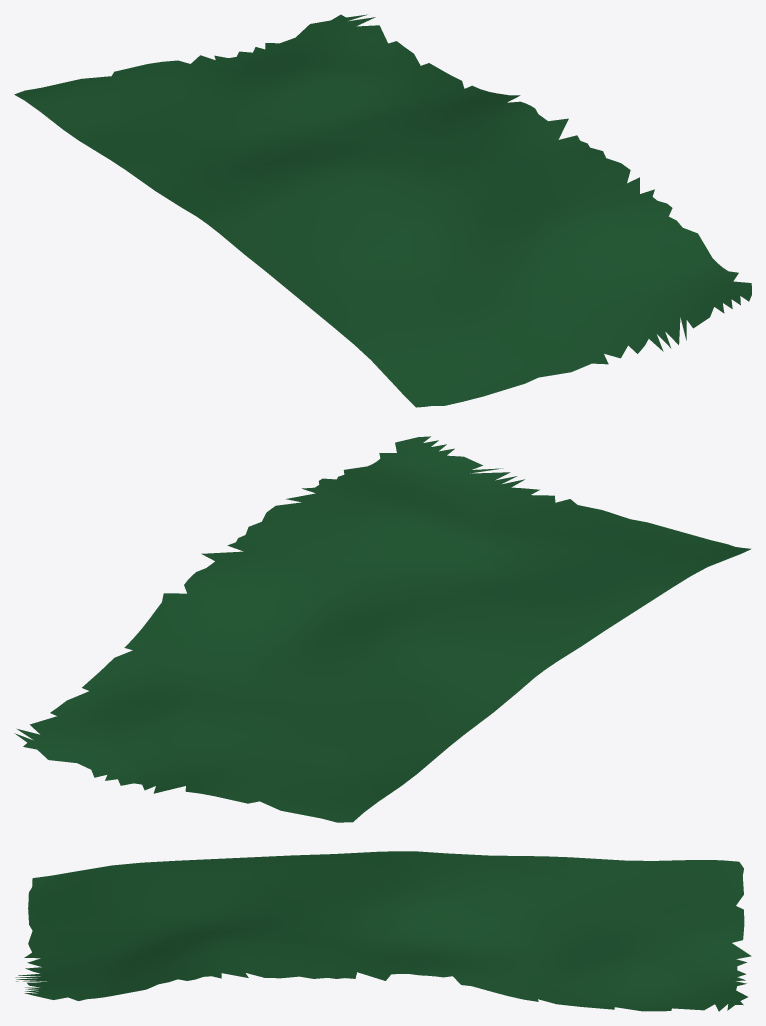
File: payo_land_x4_ym2_lod1.glb
The picture shows the model from 3 angles, top to bottom: view 1: azimuth 30°, elevation 25°; view 2: azimuth 150°, elevation 25°; view 3: azimuth 270°, elevation 25°; orthographic projection. The views are drawn at different scales.
Visible parts, largest first — view 1: payo_land_x4_ym2; view 2: payo_land_x4_ym2; view 3: payo_land_x4_ym2.
Part boxes in pixels (x1=…): payo_land_x4_ym2: x1=14, y1=14, x2=751, y2=407; payo_land_x4_ym2: x1=14, y1=436, x2=750, y2=822; payo_land_x4_ym2: x1=15, y1=851, x2=751, y2=1011.
Size of the model in its own units: 130 by 20.71 by 266.
